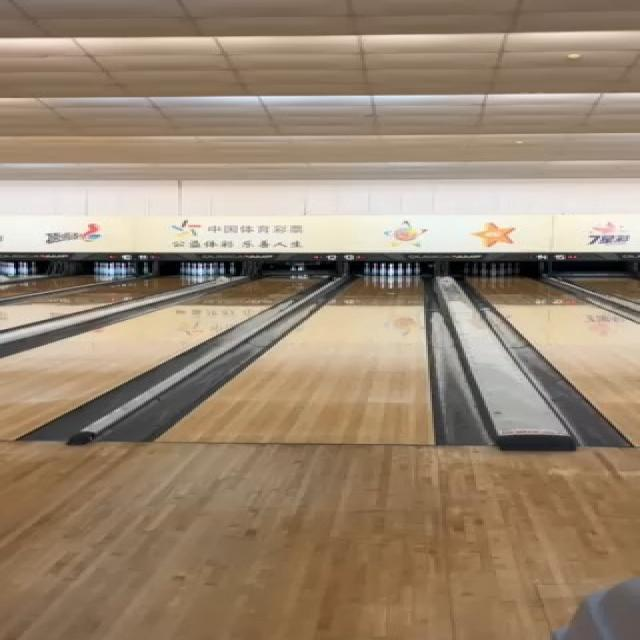alley: (155, 273, 439, 448)
bottle: (363, 259, 425, 276)
